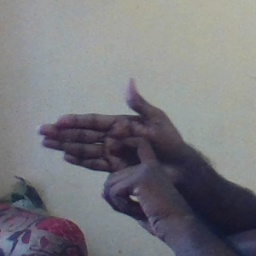R: (39, 79, 189, 226)
